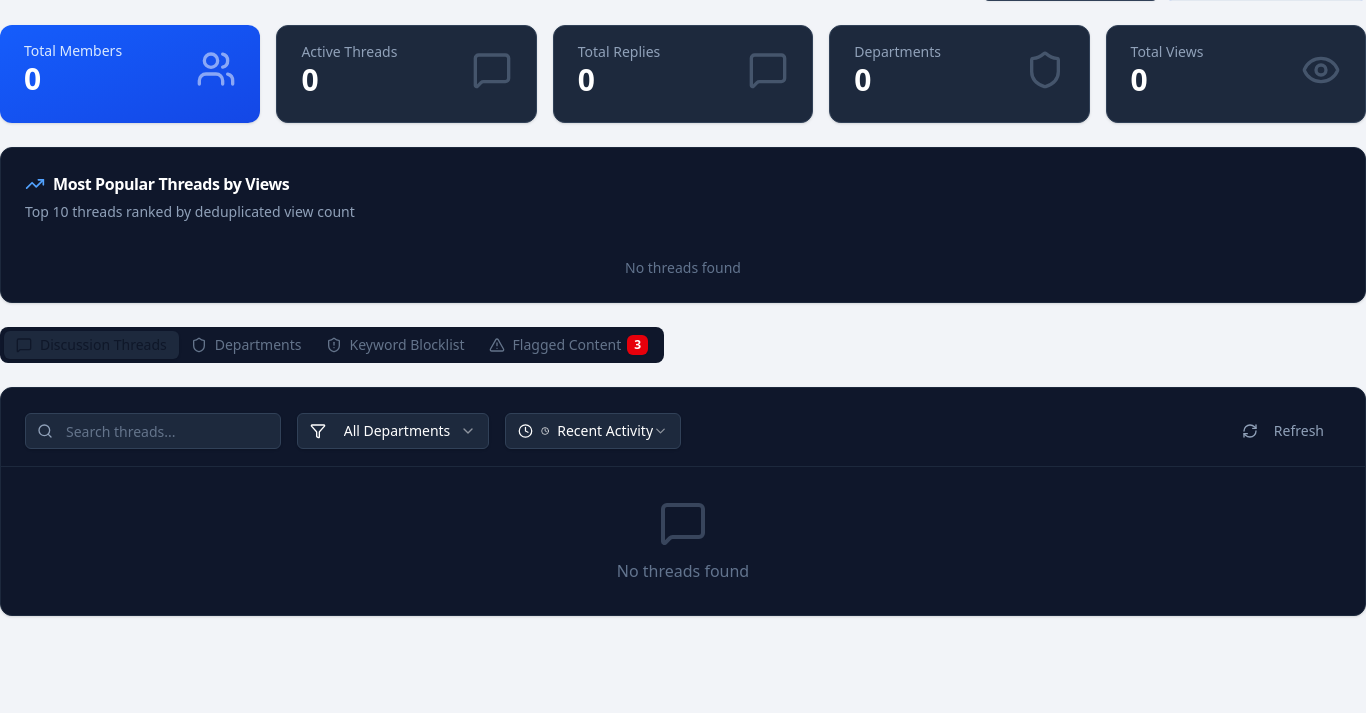
Scenario: CommunityManagement — select-all posts scoped to filtered set › select-all while author filter active selects only matching posts
Click the tab "Flagged Content 3".
click(568, 345)  # box x1=476 y1=331 x2=660 y2=359
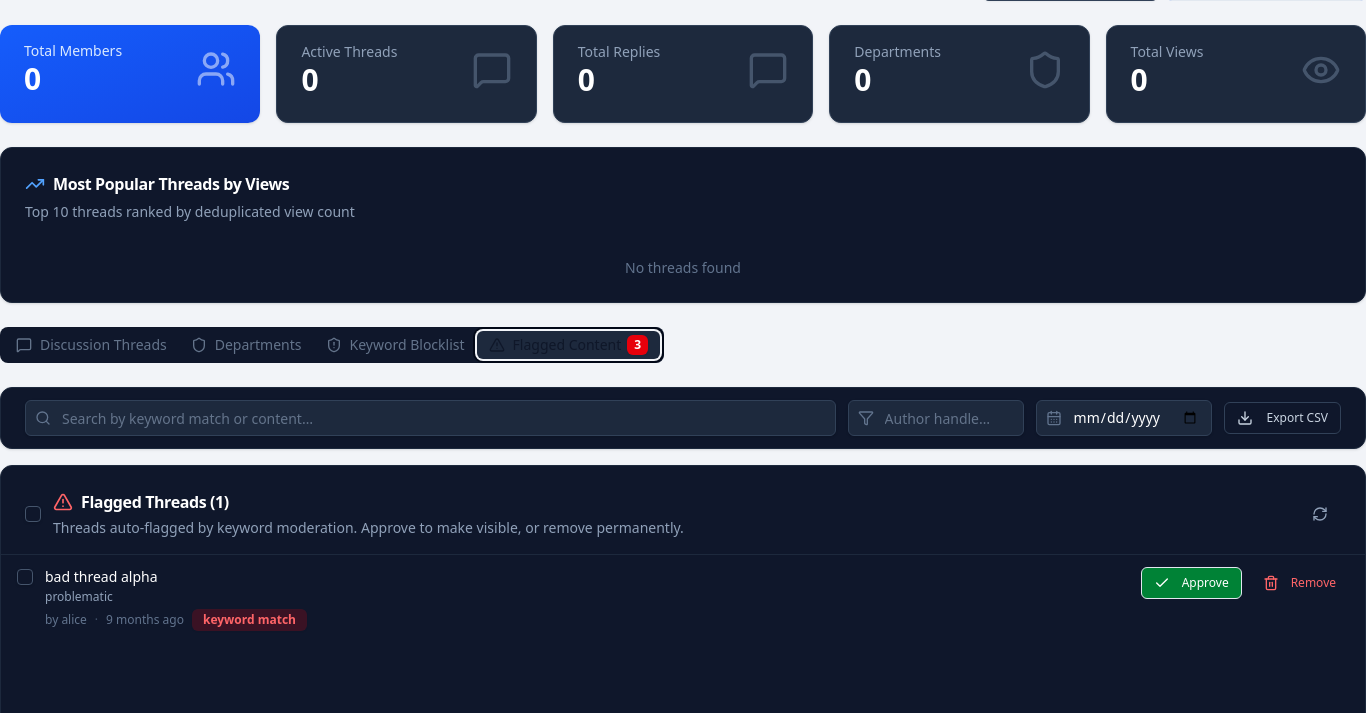
Type "alice" into the field with test id "input-flagged-author".
click(936, 418); type("alice")  # box x1=848 y1=400 x2=1024 y2=436
(page scrolled)
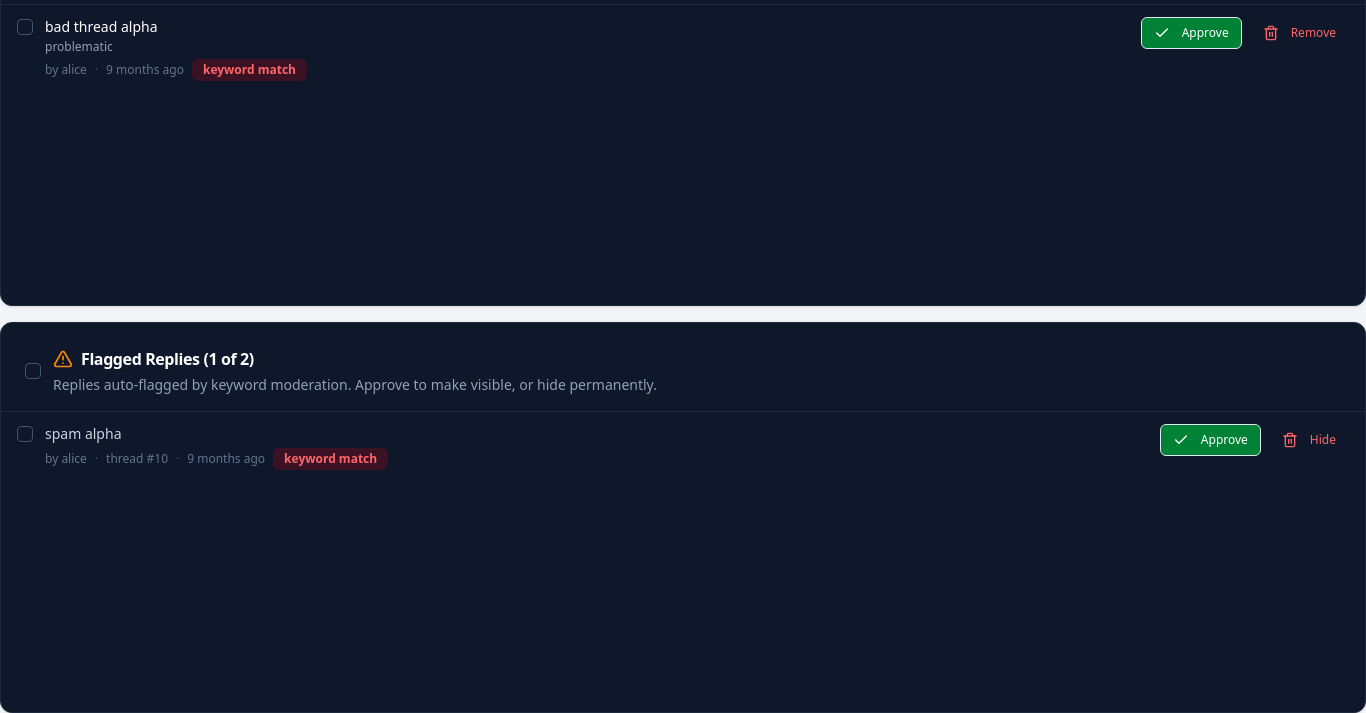
Click the checkbox with test id "checkbox-select-all-posts".
click(33, 371)  # box x1=25 y1=363 x2=41 y2=379
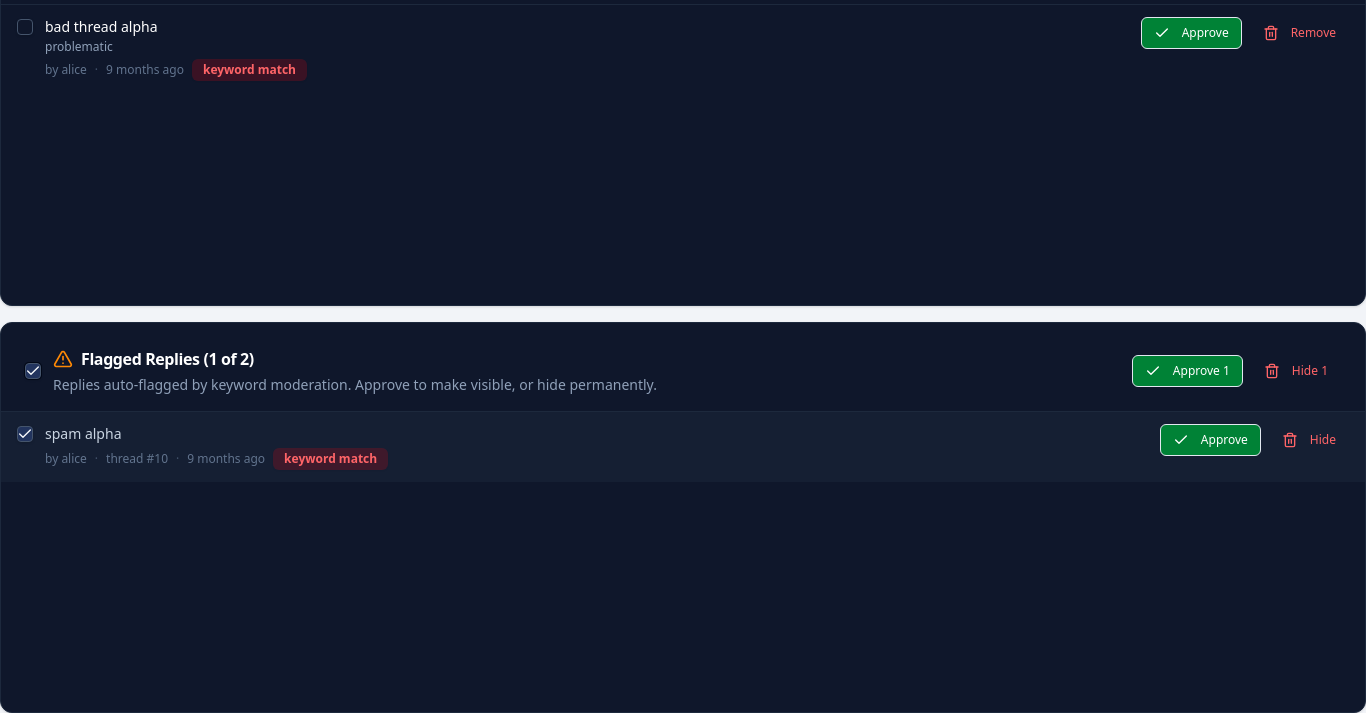
Check: the button with test id "button-bulk-approve-posts" shows "1", box x1=1132 y1=355 x2=1243 y2=387
